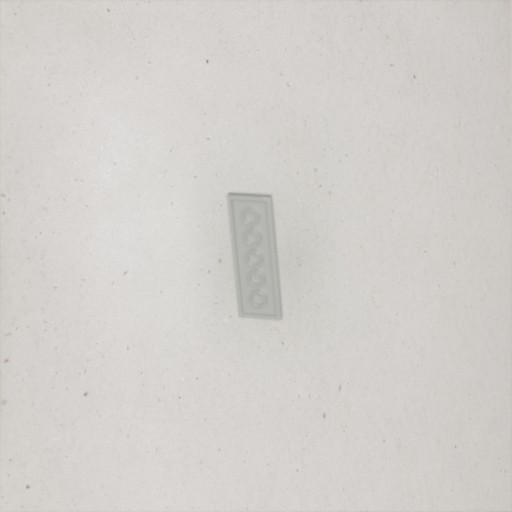lego: (226, 192, 284, 321)
